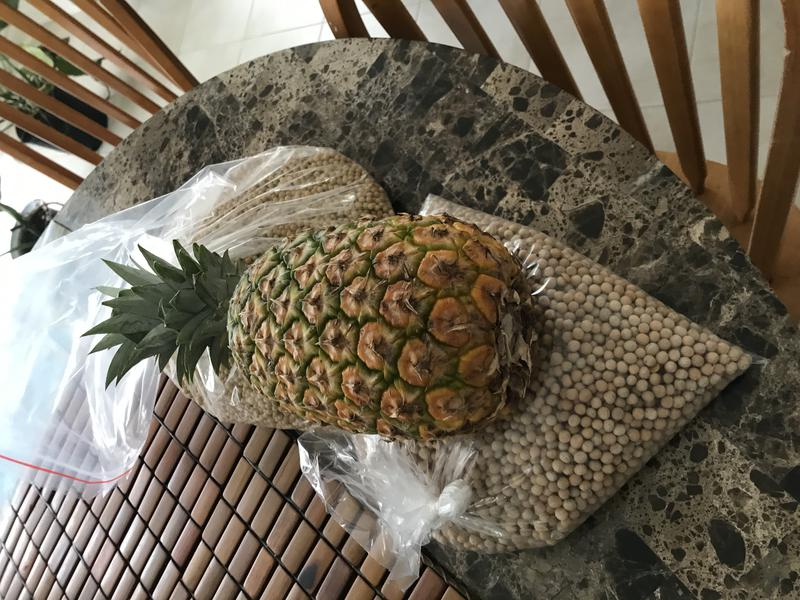pineapple: (81, 212, 544, 443)
